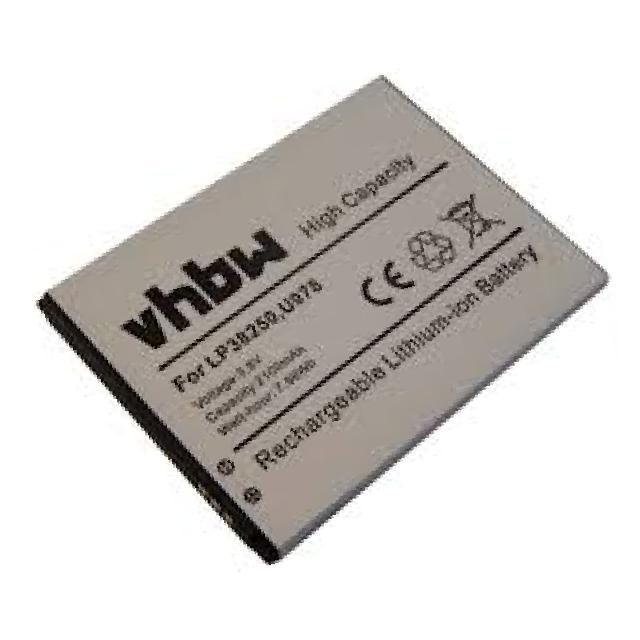Battery: (37, 72, 628, 561)
